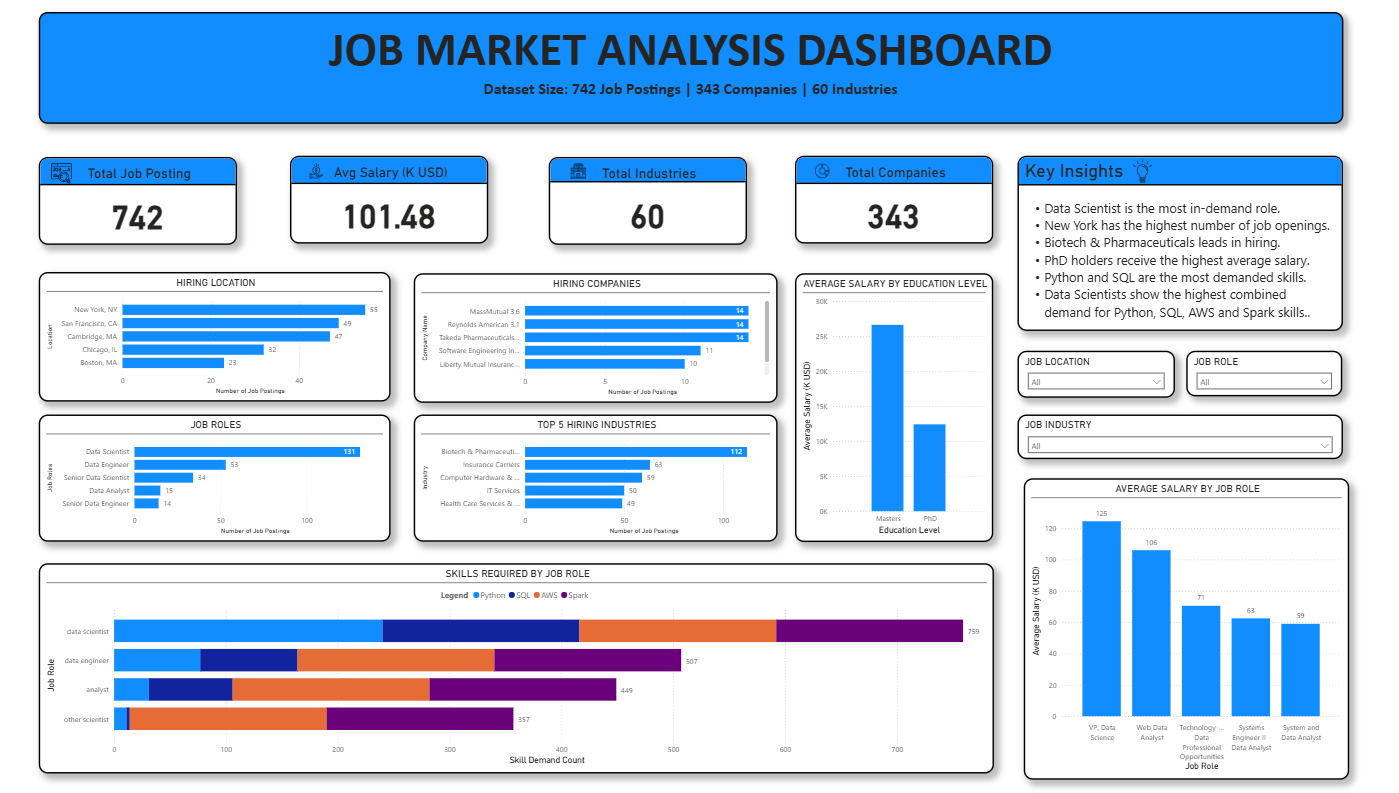

Layout of this report page (visuals, bound fields, positions):
{"tool":"powerbi","page":{"name":"Page 1","canvas":[2400,1350],"ordinal":0},"visuals":[{"type":"card","title":"Total Job Posting","fields":{"Values":["Count(JMA.ID)"]},"box":[113.8,266.2,330,146.2],"z":0},{"type":"card","title":"Avg Salary (K USD)","fields":{"Values":["Avg(JMA.Avg_SalaryK)"]},"box":[534,264,330,146],"z":1000},{"type":"card","title":"Total Companies","fields":{"Values":["Count(JMA.Company_Name)"]},"box":[1376,264,330,146],"z":2000},{"type":"card","title":"Total Industries","fields":{"Values":["Count(JMA.Industry)"]},"box":[964,266,330,146],"z":3000},{"type":"clusteredBarChart","title":"HIRING LOCATION","fields":{"Category":["JMA.Location"],"Y":["CountNonNull(JMA.ID)"]},"box":[114,458,586,216],"z":4000},{"type":"clusteredBarChart","title":"TOP 5 HIRING INDUSTRIES","fields":{"Category":["JMA.Industry"],"Y":["CountNonNull(JMA.ID)"]},"box":[740,696,606,212],"z":5000},{"type":"clusteredBarChart","title":"HIRING COMPANIES","fields":{"Category":["JMA.Company_Name"],"Y":["CountNonNull(JMA.ID)"]},"box":[740,460,606,216],"z":6000},{"type":"clusteredBarChart","title":"JOB ROLES","fields":{"Category":["JMA.Job_Title"],"Y":["CountNonNull(JMA.ID)"]},"box":[114,696,586,212],"z":7000},{"type":"clusteredColumnChart","title":"AVERAGE SALARY BY JOB ROLE","fields":{"Category":["JMA.Job_Title"],"Y":["Avg(JMA.Avg_SalaryK)"]},"box":[1756,802,542,492],"z":8000},{"type":"barChart","title":"SKILLS REQUIRED BY JOB ROLE","fields":{"Category":["JMA.job_title_sim"],"Y":["Sum(JMA.Python)","Sum(JMA.sql_)","Sum(JMA tool skills.AWS)","Sum(JMA tool skills.Spark)"]},"box":[114,944,1592,350],"z":9000},{"type":"slicer","title":"JOB LOCATION","fields":{"Values":["JMA.Location"]},"box":[1746,590,262,78],"z":10000},{"type":"slicer","title":"JOB INDUSTRY","fields":{"Values":["JMA.Industry"]},"box":[1746,696,542,74],"z":11000},{"type":"slicer","title":"JOB ROLE","fields":{"Values":["JMA.job_title_sim"]},"box":[2028,590,260,76],"z":12000},{"type":"textbox","box":[114,24,2174,186],"z":13000},{"type":"textbox","title":"Key Insights","box":[1746,264,542,292],"z":14000},{"type":"clusteredColumnChart","title":"AVERAGE SALARY BY EDUCATION LEVEL","fields":{"Category":["JMA.Degree"],"Y":["Avg(JMA.Avg_SalaryK)"]},"box":[1376,460,330,448],"z":15000},{"type":"image","box":[127.8,277.8,50,34.4],"z":16000},{"type":"image","box":[552.5,277.5,50,25.8],"z":17000},{"type":"image","box":[997.5,277.5,31.7,25.8],"z":18000},{"type":"image","box":[1408.3,277.5,24.2,25.8],"z":19000},{"type":"image","box":[1926,270,58,38],"z":20000}]}

Visuals, with their boxes in screenshot pixels (x1, y1, x2, y2), scaled from the page's 2400x1350 canvas onto the 1399x793 screenshot:
"Total Job Posting" card: bbox=(66, 156, 259, 242)
"Avg Salary (K USD)" card: bbox=(311, 155, 504, 241)
"Total Companies" card: bbox=(802, 155, 994, 241)
"Total Industries" card: bbox=(562, 156, 754, 242)
"HIRING LOCATION" clusteredBarChart: bbox=(66, 269, 408, 396)
"TOP 5 HIRING INDUSTRIES" clusteredBarChart: bbox=(431, 409, 785, 533)
"HIRING COMPANIES" clusteredBarChart: bbox=(431, 270, 785, 397)
"JOB ROLES" clusteredBarChart: bbox=(66, 409, 408, 533)
"AVERAGE SALARY BY JOB ROLE" clusteredColumnChart: bbox=(1024, 471, 1340, 760)
"SKILLS REQUIRED BY JOB ROLE" barChart: bbox=(66, 555, 994, 760)
"JOB LOCATION" slicer: bbox=(1018, 347, 1170, 392)
"JOB INDUSTRY" slicer: bbox=(1018, 409, 1334, 452)
"JOB ROLE" slicer: bbox=(1182, 347, 1334, 391)
textbox: bbox=(66, 14, 1334, 123)
"Key Insights" textbox: bbox=(1018, 155, 1334, 327)
"AVERAGE SALARY BY EDUCATION LEVEL" clusteredColumnChart: bbox=(802, 270, 994, 533)
image: bbox=(74, 163, 104, 183)
image: bbox=(322, 163, 351, 178)
image: bbox=(581, 163, 600, 178)
image: bbox=(821, 163, 835, 178)
image: bbox=(1123, 159, 1157, 181)
